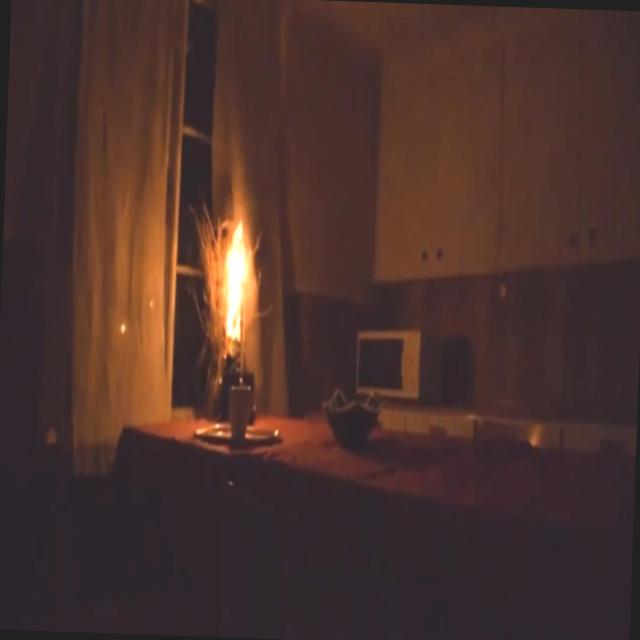fire: (198, 151, 280, 389)
